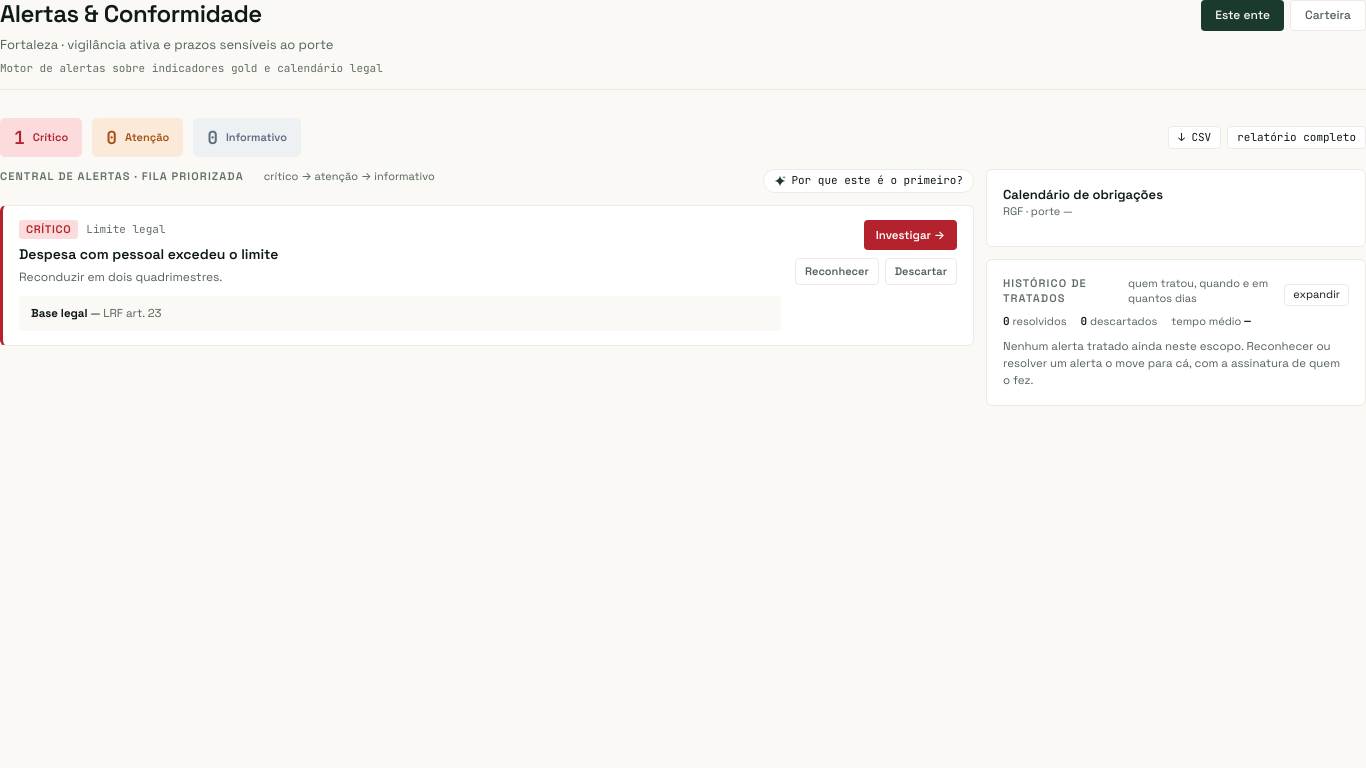
it: Alertas — a IA explica a fila, não a reordena › oferece a explicação da fila sem chamá-la ao carregar a página
Click the button named "Explicar por que o primeiro alerta": click(869, 181) [763,169,974,193]
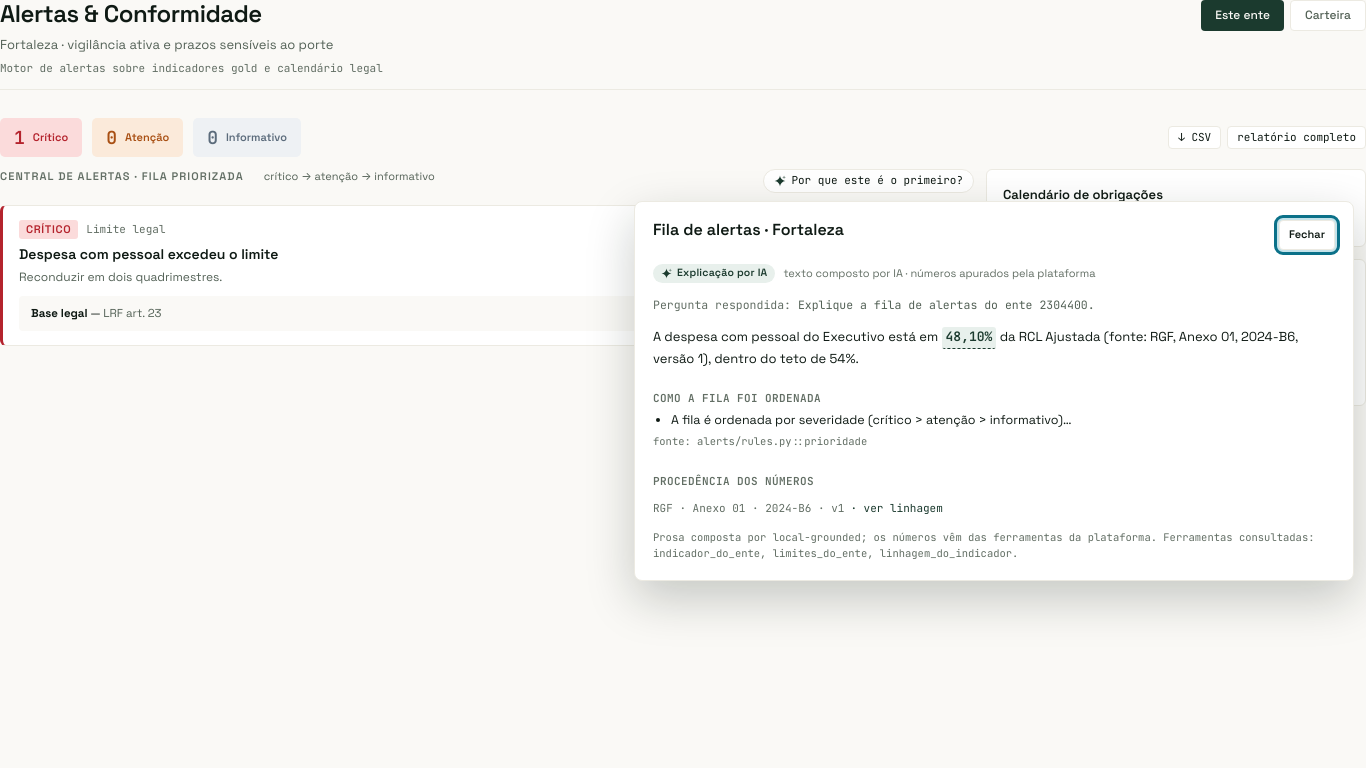
Expected: the heading "Como a fila foi ordenada" is shown, [653,391,821,405]
Expected: the dialog shows "alerts/rules.py::prioridade", [697,434,867,448]
